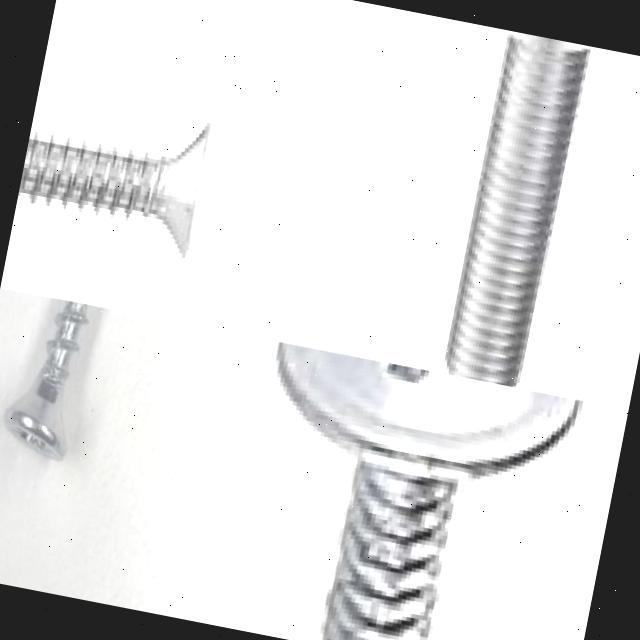Screw: (283, 343, 582, 640), (440, 27, 598, 387), (18, 123, 211, 259), (4, 300, 88, 460)
